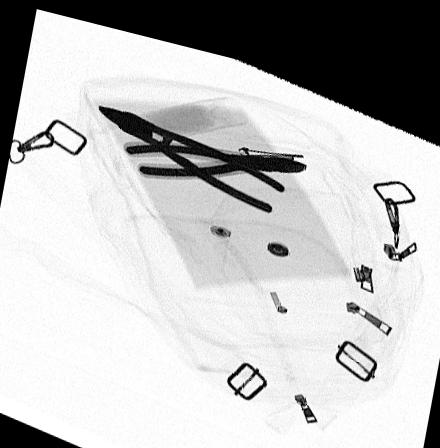Pliers: (96, 99, 287, 202), (122, 134, 310, 170)
